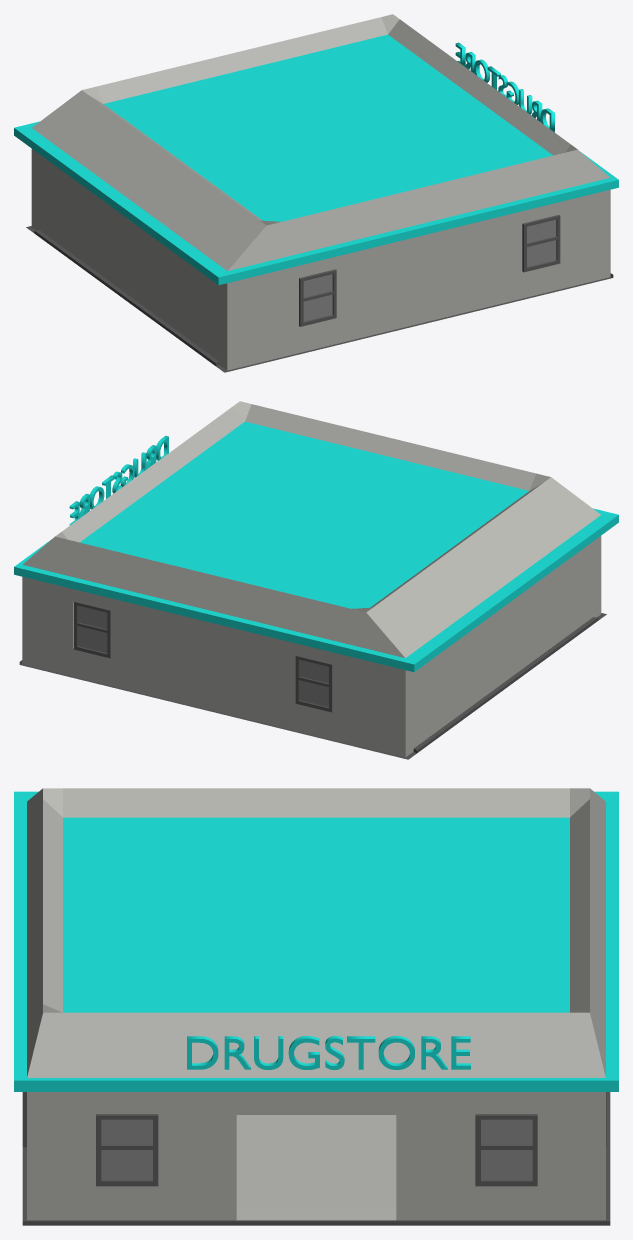
The model's file is drug store.fbx.
The picture shows the model from 3 angles, top to bottom: view 1: azimuth 30°, elevation 25°; view 2: azimuth 150°, elevation 25°; view 3: azimuth 270°, elevation 25°; orthographic projection. The views are drawn at different scales.
Visible parts, largest first — view 1: drug store roof, drug store; view 2: drug store roof, drug store; view 3: drug store roof, drug store.
Boxes of the visible parts, <box> form: drug store roof: <box>32,14,610,270</box>; drug store: <box>14,121,618,372</box>; drug store roof: <box>22,401,600,657</box>; drug store: <box>14,508,618,759</box>; drug store roof: <box>27,788,605,1077</box>; drug store: <box>14,791,618,1225</box>.
Bounding box in the file's own units: 30.77 × 9.56 × 27.24.
